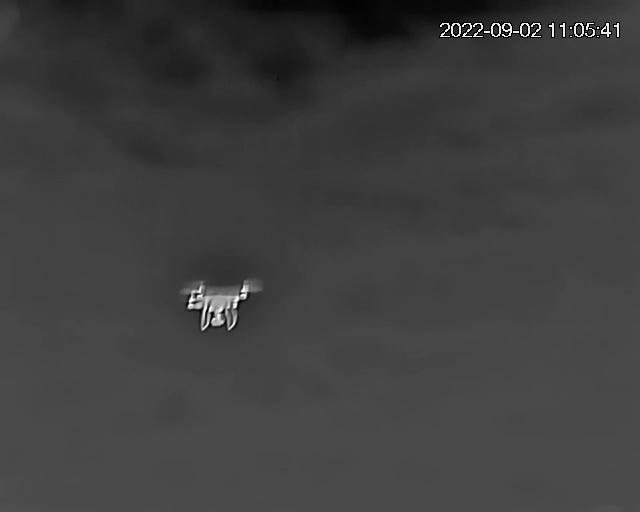DJI-Phantom: (182, 280, 265, 332)
